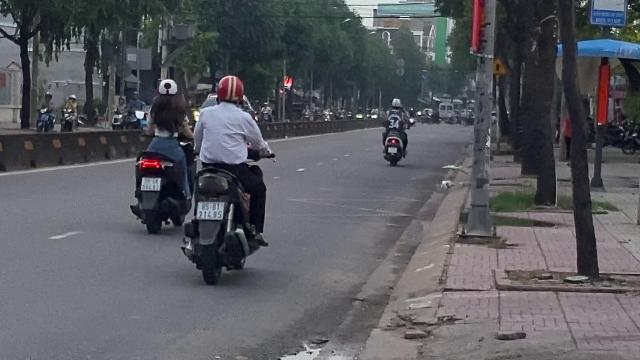helmet: (215, 75, 245, 105), (155, 78, 177, 98)
licenseplate: (196, 202, 222, 219), (142, 178, 160, 190)
motorcyclist: (183, 72, 273, 282), (128, 77, 190, 233)
